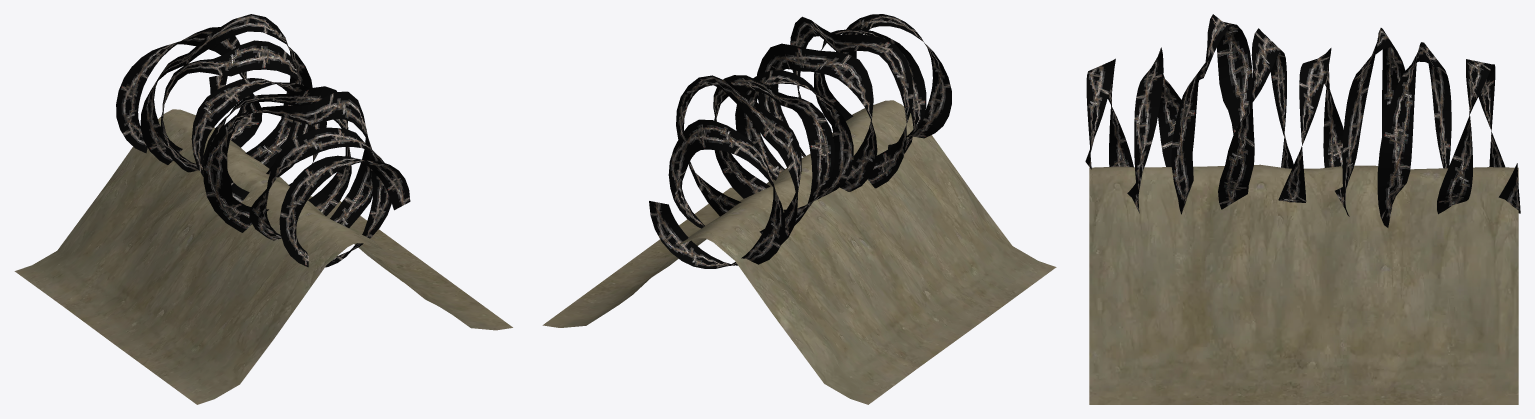
The model's file is dirt_mound_600.glb.
3 renders of one model, left to right at view 1: azimuth 30°, elevation 25°; view 2: azimuth 150°, elevation 25°; view 3: azimuth 270°, elevation 25°, orthographic. The views are drawn at different scales.
Visible parts, largest first — view 1: dirt_mound_600_LOD0, barbedwire_set_straight300 (4); view 2: dirt_mound_600_LOD0, barbedwire_set_straight300 (4); view 3: dirt_mound_600_LOD0, barbedwire_set_straight300 (4).
Boxes of the visible parts, bbox=[...] form: dirt_mound_600_LOD0: bbox=[14, 109, 512, 404]; barbedwire_set_straight300 (4): bbox=[116, 14, 410, 267]; dirt_mound_600_LOD0: bbox=[542, 100, 1056, 404]; barbedwire_set_straight300 (4): bbox=[649, 14, 951, 268]; dirt_mound_600_LOD0: bbox=[1089, 164, 1518, 404]; barbedwire_set_straight300 (4): bbox=[1085, 14, 1520, 227].
Size of the model in its own units: 6 by 4.37 by 6.08.
2 materials, 2 textured.
